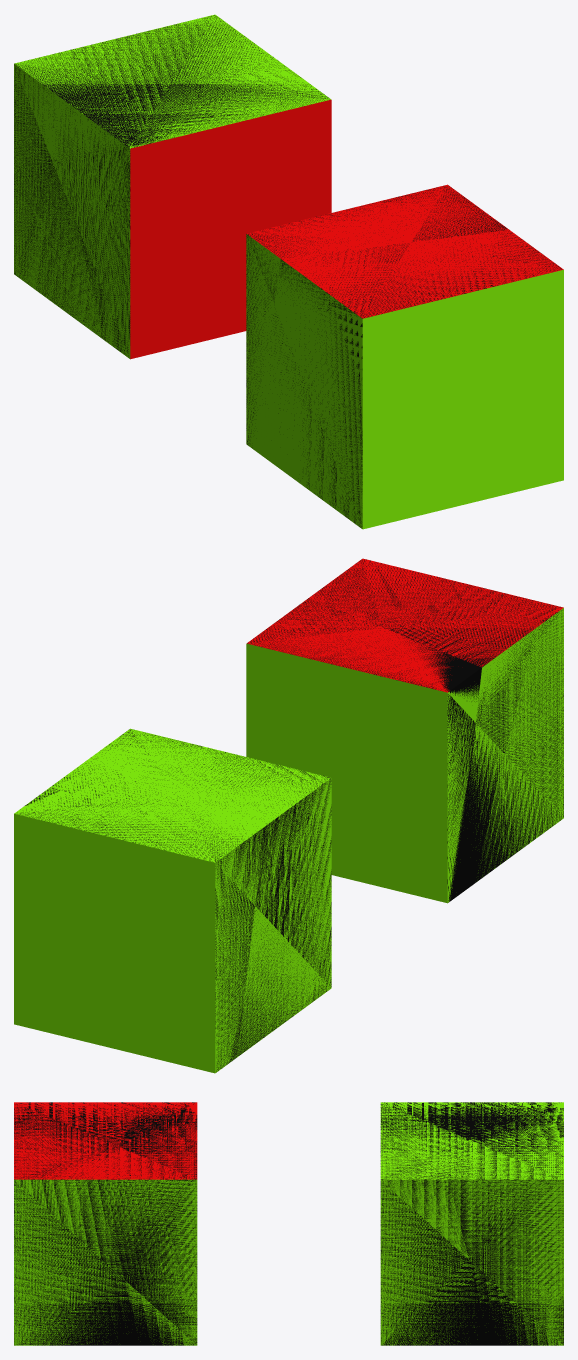
3 renders of one model, top to bottom at view 1: azimuth 30°, elevation 25°; view 2: azimuth 150°, elevation 25°; view 3: azimuth 270°, elevation 25°, orthographic. The views are drawn at different scales.
Parts seen in each view (by area): view 1: Box001, Box002; view 2: Box002, Box001; view 3: Box001, Box002.
Part boxes in pixels (x1=…): Box001: x1=246, y1=184, x2=563, y2=529; Box002: x1=14, y1=14, x2=331, y2=359; Box002: x1=14, y1=728, x2=331, y2=1073; Box001: x1=246, y1=558, x2=563, y2=903; Box001: x1=14, y1=1102, x2=197, y2=1345; Box002: x1=380, y1=1102, x2=563, y2=1345.
Size of the model in its own units: 1 by 1 by 3.
